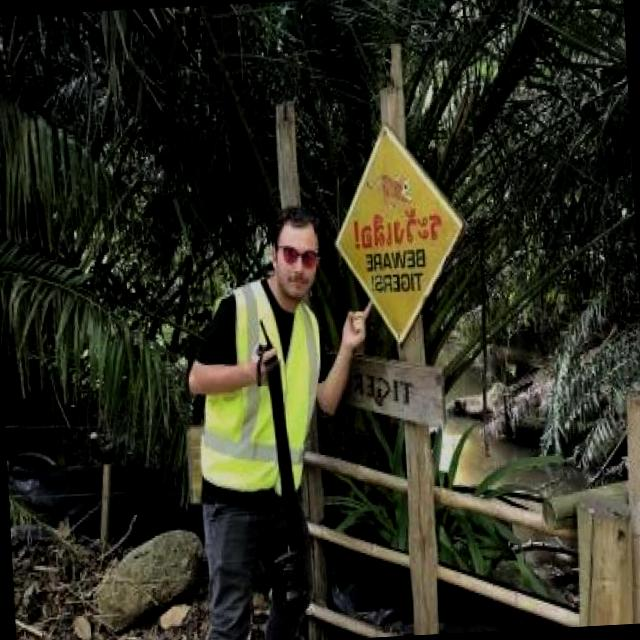vest: (215, 290, 328, 492)
